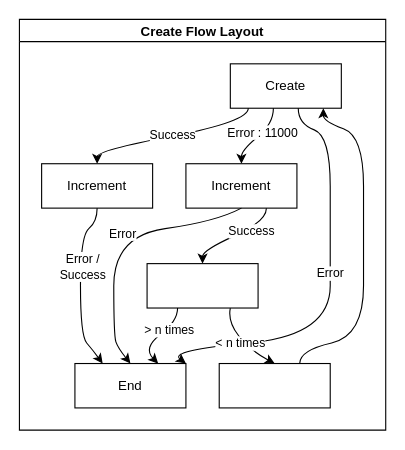
Some shapes in this 405 by 450 pixel diagram are drawn without their labels. Each missing label, with the box of its shape:
Retry: (146, 263, 258, 308)
Start: (218, 362, 330, 408)
